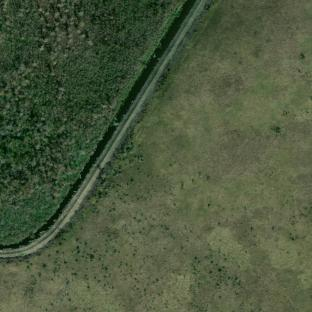Floresta: (0, 0, 184, 244)
